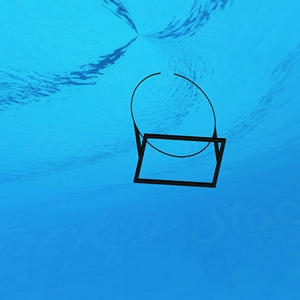circle: (127, 69, 232, 194)
